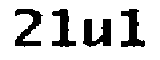1: (118, 6, 153, 52), (48, 6, 78, 52)
2: (12, 5, 44, 54)
u: (80, 15, 117, 52)
